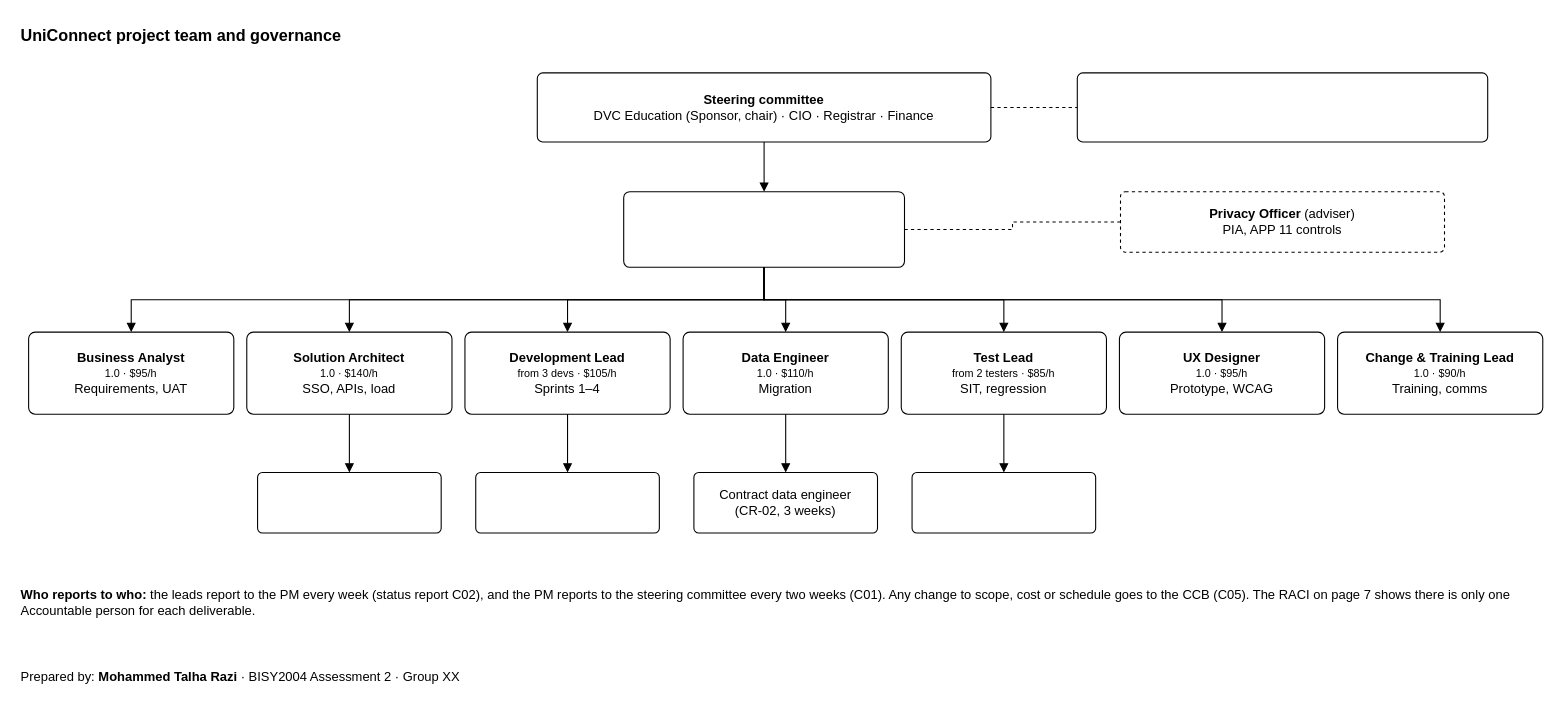
The diagram is 1562 pixels wide and 706 high, and some of its shapes have lost their labels. Each missing label, with the box of its shape:
Change Control Board Sponsor · PM · Architect · Privacy Officer · Finance: (1076, 72, 1488, 142)
Developers ×3 (Agile squad): (475, 471, 659, 533)
Project Manager 1.0 FTE · $120/h Schedule, cost, risk, comms: (623, 191, 905, 267)
Security Consultant (contract, $160/h): (256, 471, 441, 533)
Testers ×2: (911, 471, 1096, 533)
